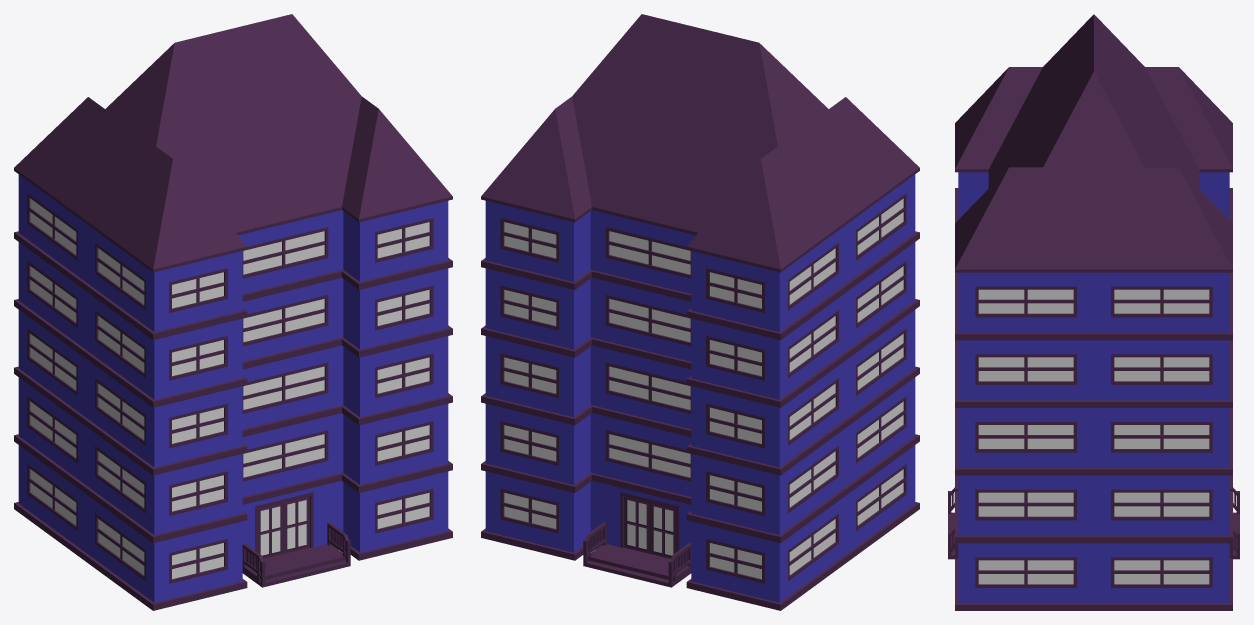
The model's file is medium building 11.fbx.
The picture shows the model from 3 angles, left to right: view 1: azimuth 30°, elevation 25°; view 2: azimuth 150°, elevation 25°; view 3: azimuth 270°, elevation 25°; orthographic projection.
Visible parts, largest first — view 1: building_001; view 2: building_001; view 3: building_001.
Boxes of the visible parts, <box> form: building_001: <box>14,14,452,610</box>; building_001: <box>481,14,919,610</box>; building_001: <box>948,14,1239,610</box>.
Size of the model in its own units: 1020 by 1610 by 860.
